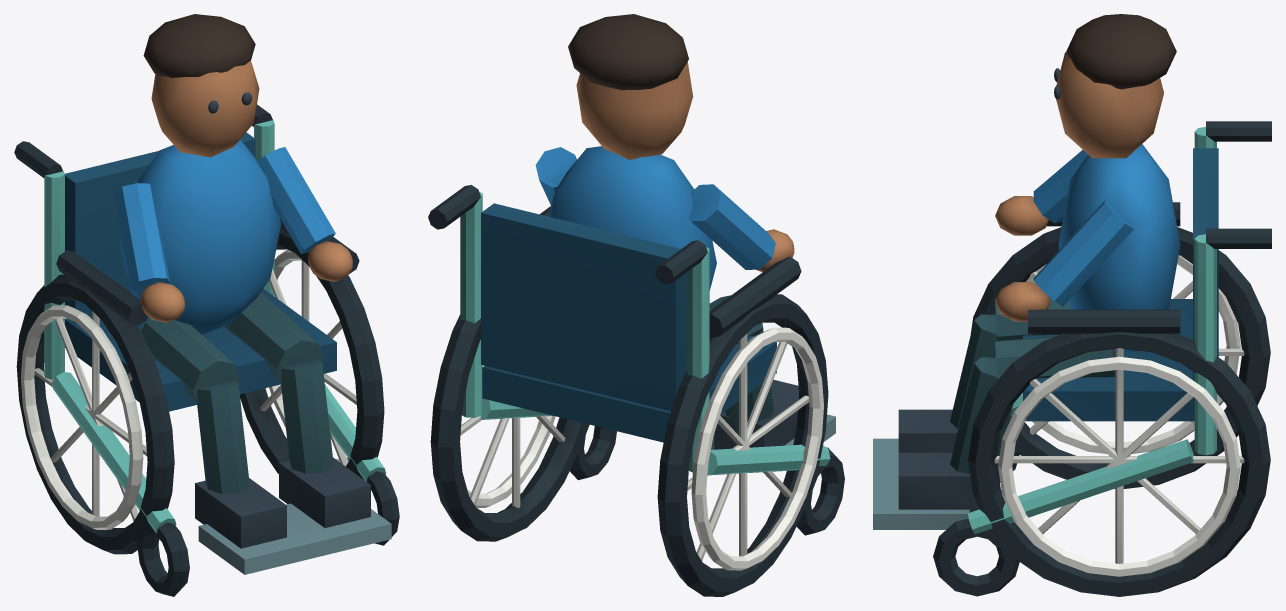
The model's file is wheelchair-user.glb.
3 renders of one model, left to right at view 1: azimuth 30°, elevation 25°; view 2: azimuth 150°, elevation 25°; view 3: azimuth 270°, elevation 25°, orthographic. The views are drawn at different scales.
Parts seen in each view (by area): view 1: wheel tyre, seated jacket, seated thigh, seat, push rim, head, shoe, chair frame, footplate, hair; view 2: seat, wheel tyre, seated jacket, push rim, chair frame, head, hair, shoe, seated thigh; view 3: wheel tyre, seated jacket, push rim, head, seat, chair frame, seated thigh, shoe, hair, footplate.
Boxes of the visible parts, left/top/right/bottom form: wheel tyre: left=14, top=104, right=399, bottom=596; seated jacket: left=113, top=139, right=335, bottom=334; seated thigh: left=141, top=293, right=333, bottom=494; seat: left=64, top=132, right=336, bottom=411; push rim: left=20, top=249, right=356, bottom=529; head: left=140, top=60, right=352, bottom=322; shoe: left=195, top=92, right=370, bottom=548; chair frame: left=44, top=120, right=385, bottom=533; footplate: left=198, top=503, right=391, bottom=574; hair: left=143, top=14, right=255, bottom=77; seat: left=481, top=203, right=776, bottom=442; wheel tyre: left=428, top=185, right=844, bottom=596; seated jacket: left=535, top=146, right=775, bottom=290; push rim: left=460, top=327, right=823, bottom=570; chair frame: left=460, top=192, right=830, bottom=475; head: left=576, top=61, right=794, bottom=272; hair: left=568, top=14, right=688, bottom=90; shoe: left=714, top=379, right=798, bottom=449; seated thigh: left=709, top=295, right=773, bottom=433; wheel tyre: left=933, top=121, right=1271, bottom=596; seated jacket: left=1033, top=144, right=1180, bottom=351; push rim: left=994, top=255, right=1244, bottom=576; head: left=995, top=52, right=1163, bottom=321; seat: left=1023, top=148, right=1218, bottom=421; chair frame: left=967, top=126, right=1216, bottom=534; seated thigh: left=950, top=296, right=1115, bottom=473; shoe: left=898, top=68, right=1060, bottom=512; hair: left=1066, top=14, right=1176, bottom=89; footplate: left=873, top=438, right=969, bottom=529.
Size of the model in its own units: 0.5892 by 1.13 by 0.785.
